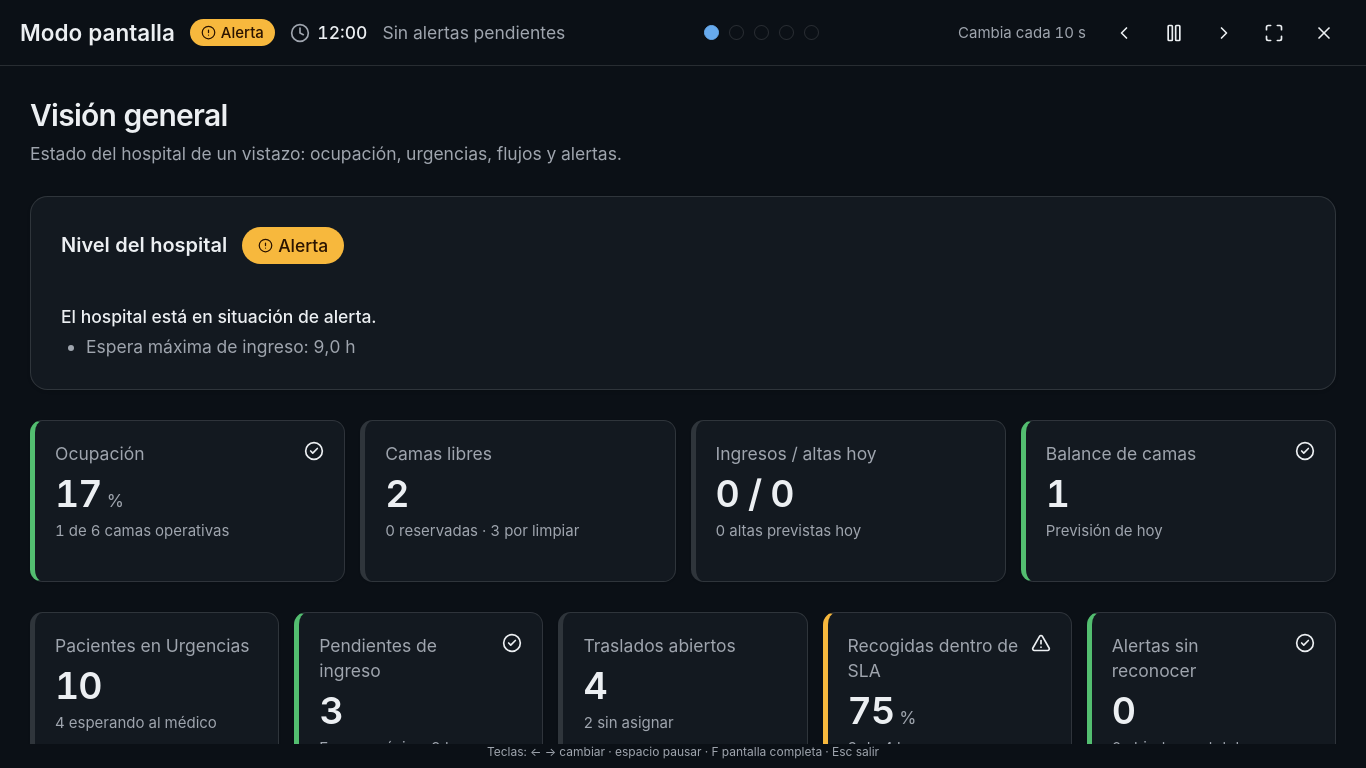
Scenario: wall mode › arrow keys, the dots and the buttons move between dashboards; space pauses; F is fullscreen
The image size is (1366, 768).
Check: the heading "Modo pantalla" is shown, box [20,15,175,50]
Press Arrowright
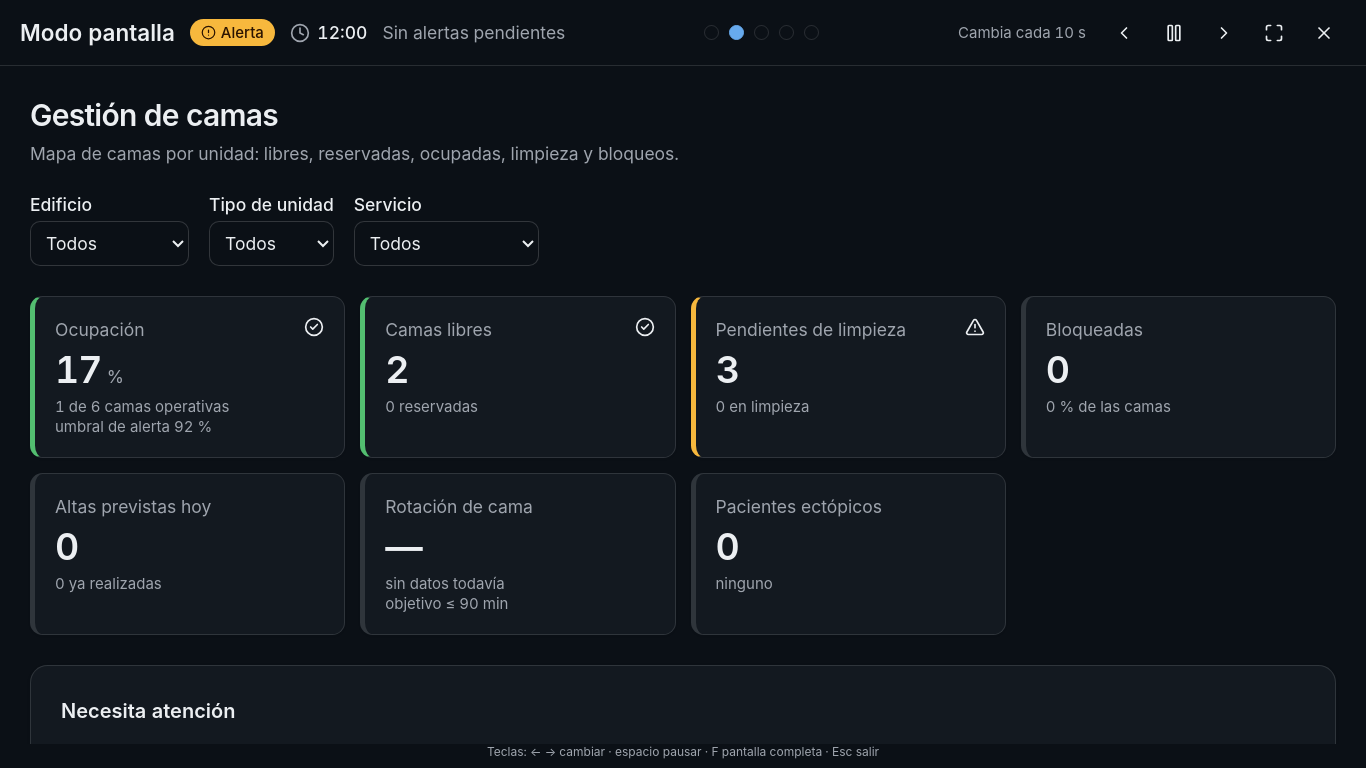
Press Arrowleft Arrowleft
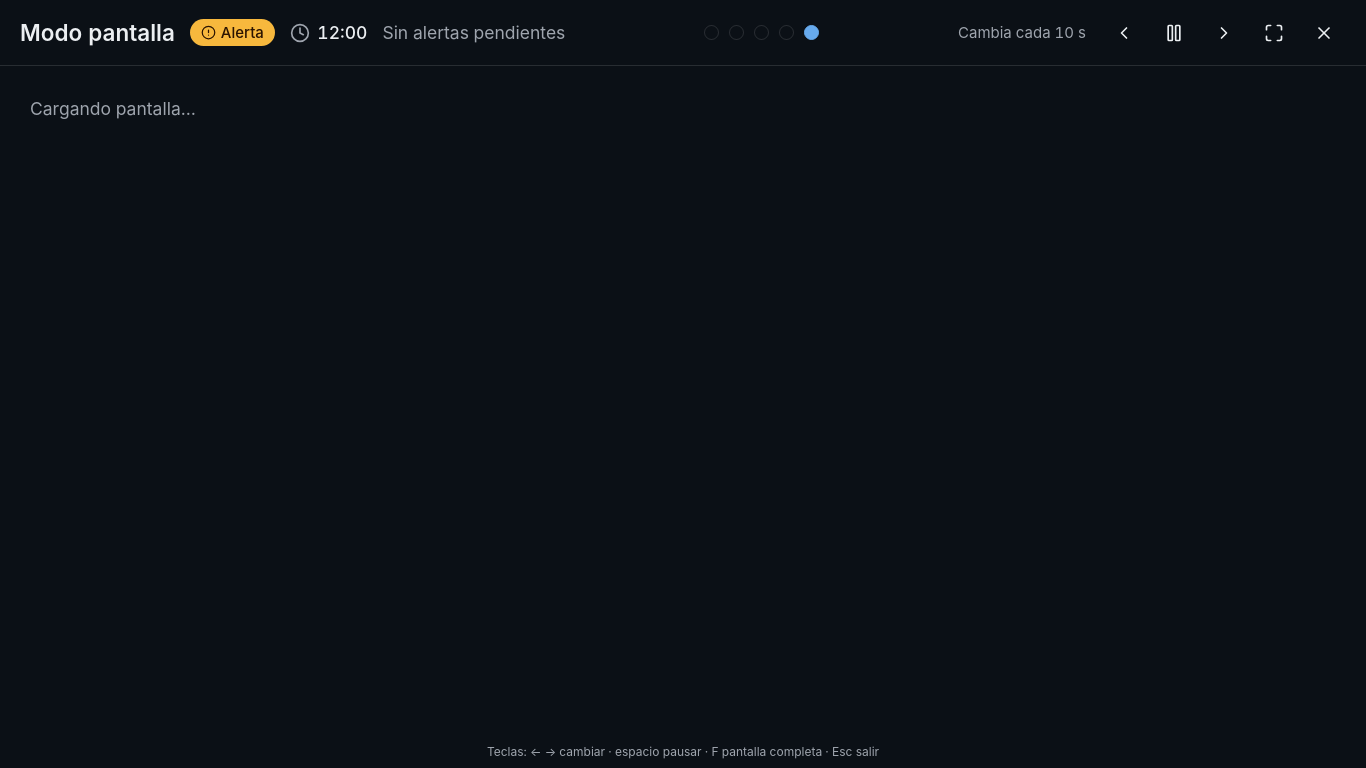
Click the button named "Urgencias (3 de 5)": (762, 32) [754,25,769,40]
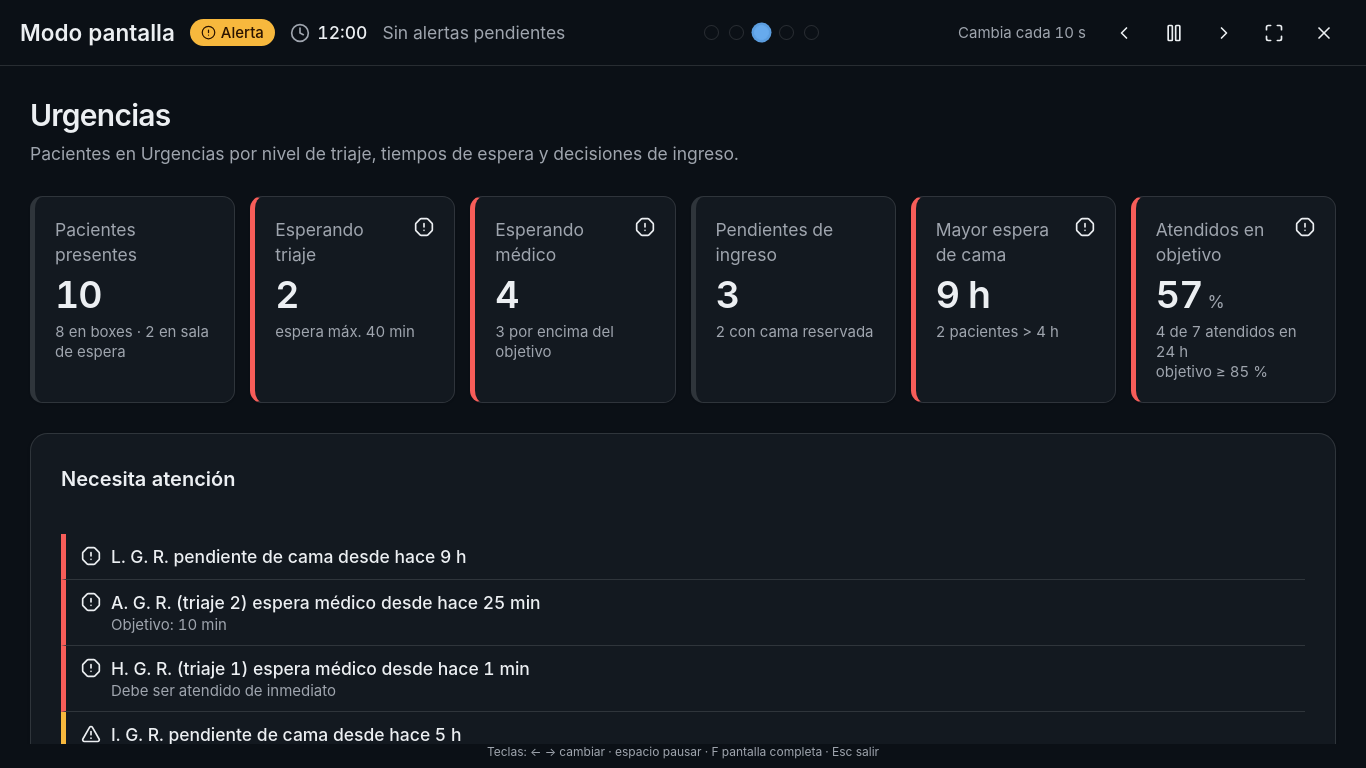
Click the button named "Pantalla siguiente": (1224, 32) [1201,10,1246,55]
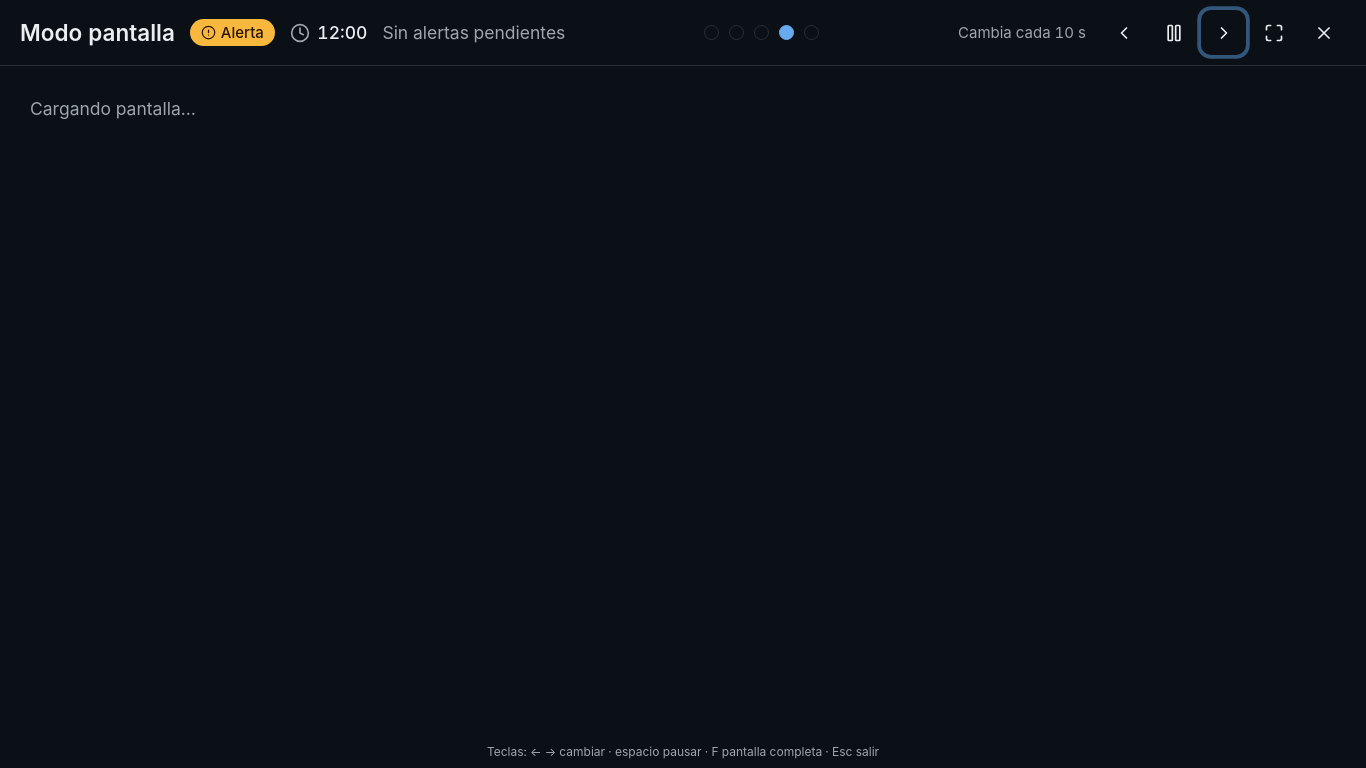
Click the button named "Pantalla anterior": (1124, 32) [1101,10,1146,55]
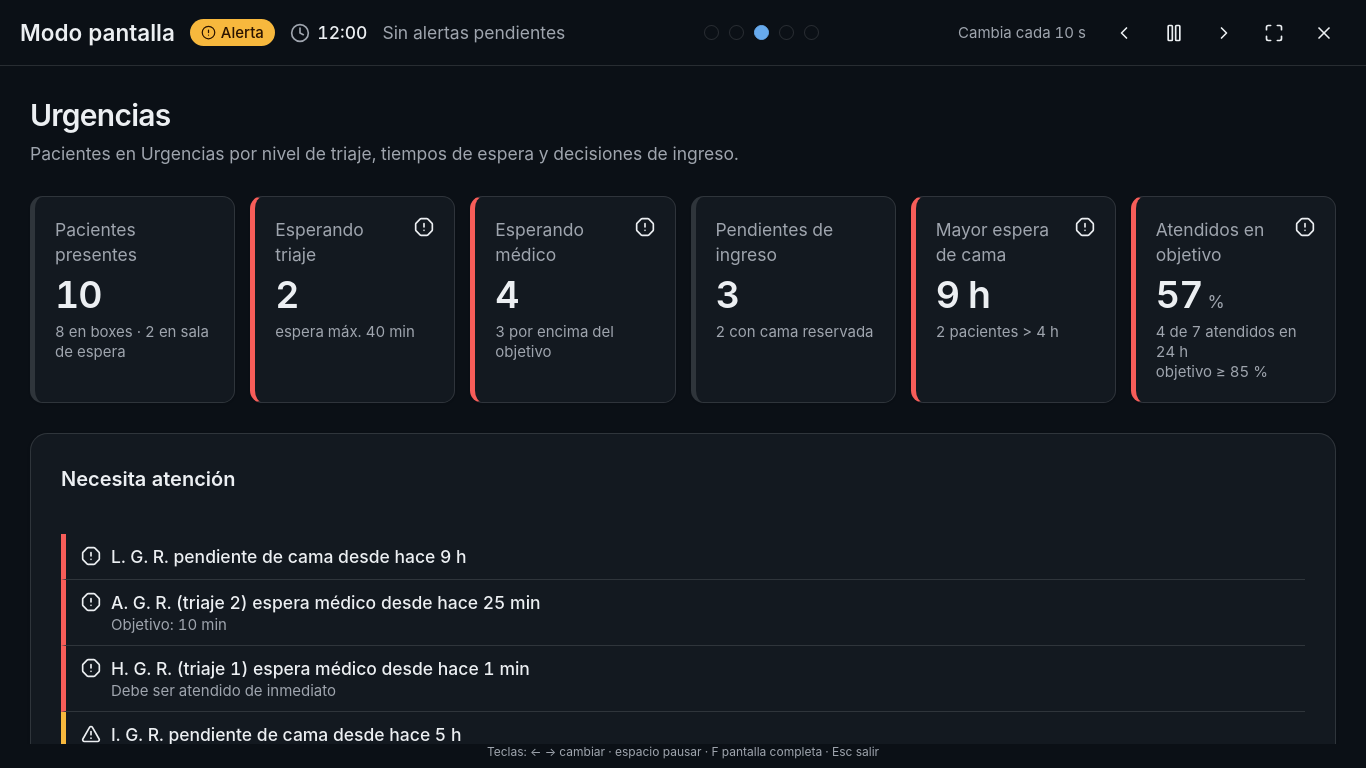
Type keys " "
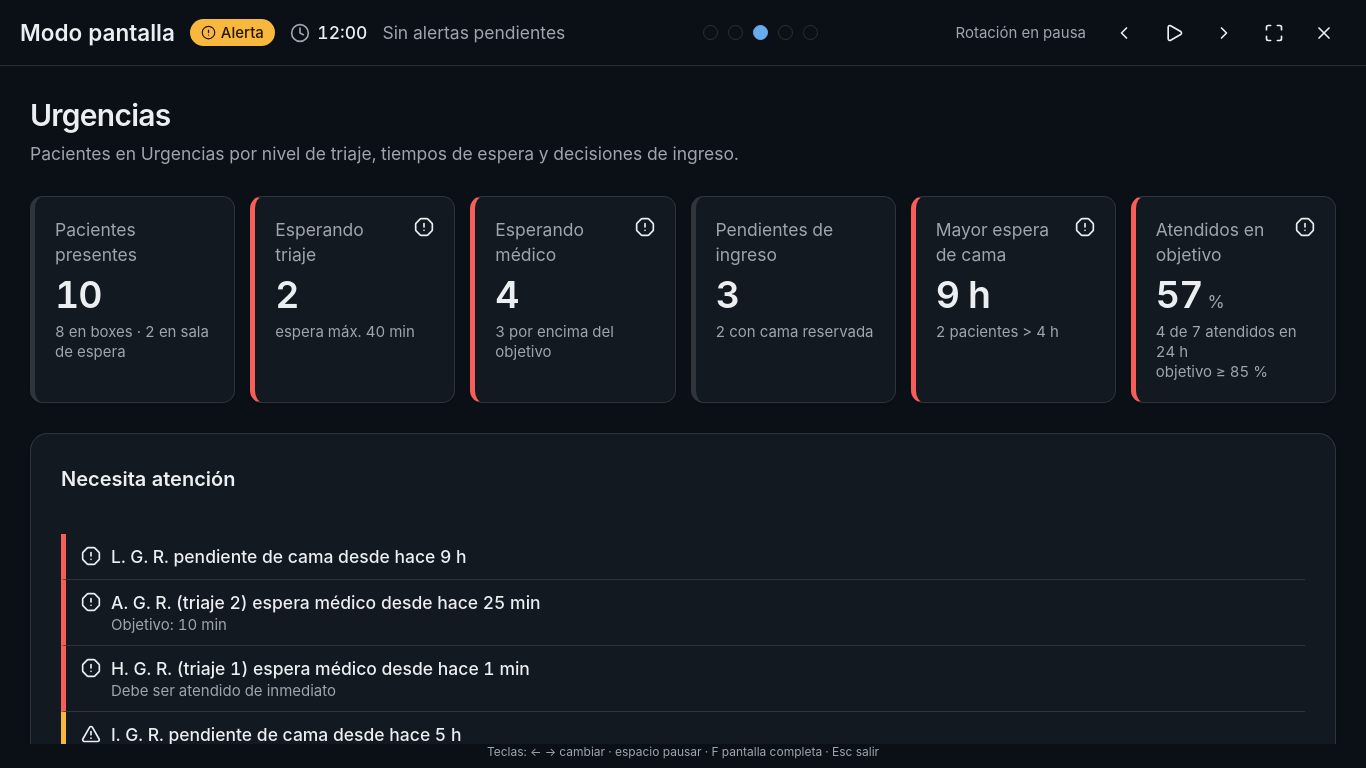
Check: the button named "Reanudar la rotación" is shown, box [1151,10,1196,55]
